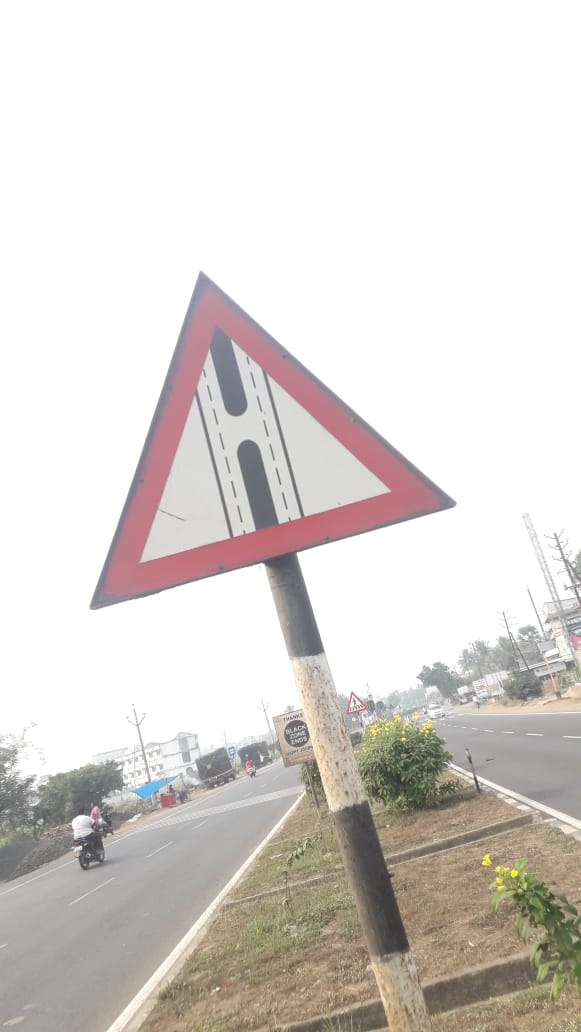highway go straight: (65, 247, 494, 604)
